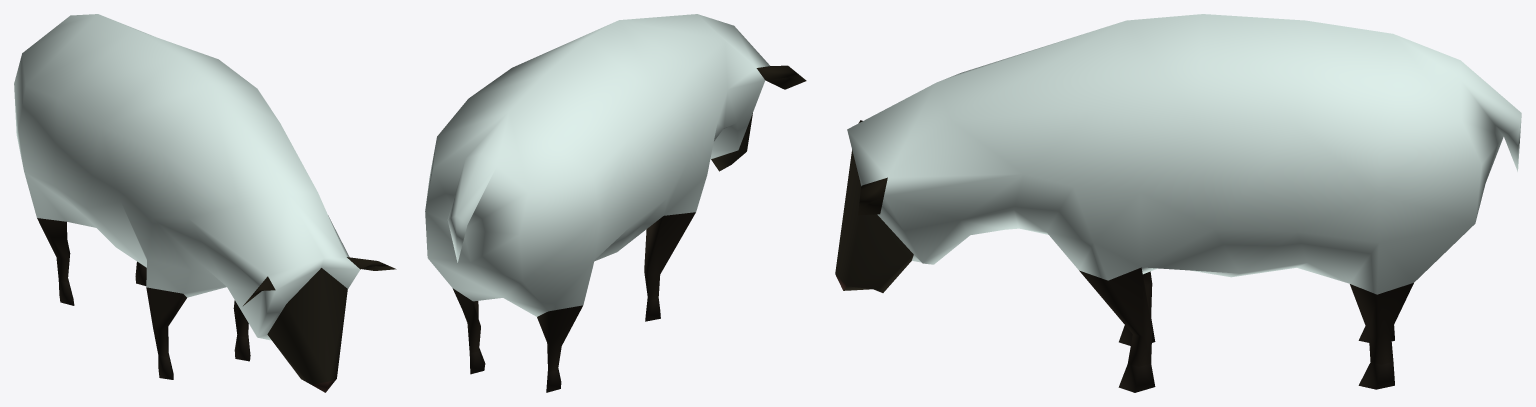
The model's file is sheep-ver1.glb.
3 views of the same model, side by side, from view 1: azimuth 30°, elevation 25°; view 2: azimuth 150°, elevation 25°; view 3: azimuth 270°, elevation 25° (orthographic). The views are drawn at different scales.
Visible parts, largest first — view 1: Sheep-ver1; view 2: Sheep-ver1; view 3: Sheep-ver1.
Boxes of the visible parts, x1=… form: Sheep-ver1: x1=14, y1=14, x2=396, y2=392; Sheep-ver1: x1=425, y1=14, x2=806, y2=392; Sheep-ver1: x1=835, y1=14, x2=1521, y2=392.
Size of the model in its own units: 0.4199 by 0.681 by 1.2.
Materials: 1 (1 with a texture image).
